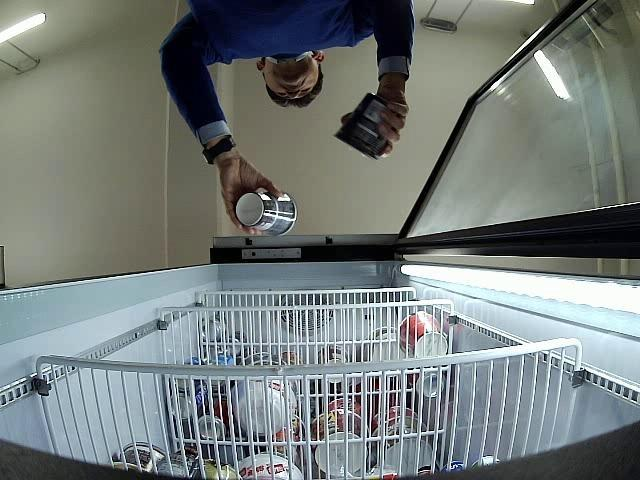08_buldak_S: (333, 92, 388, 160), (236, 189, 297, 235)
